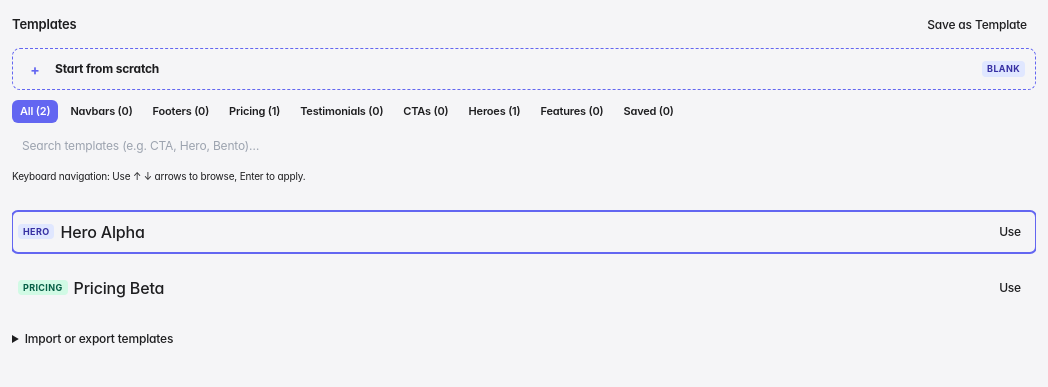
TemplatePanel lazy starter selection › reports a load failure and lets the same control retry successfully
The width and height of the screenshot is (1048, 387).
Click the button named "Use Hero Alpha" at (36, 232), box left=12, top=210, right=1036, bottom=252
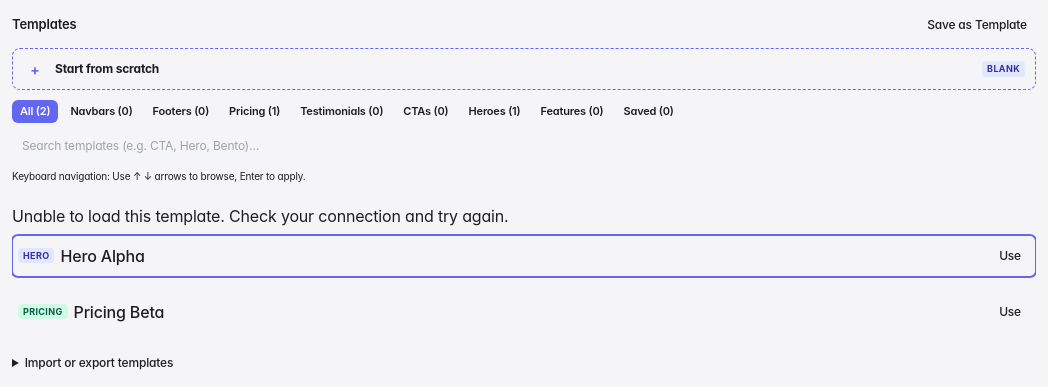
Result: the message shows "Unable to load this template" at left=12, top=206, right=508, bottom=226
Click the button named "Use Hero Alpha" at (36, 256), box left=12, top=234, right=1036, bottom=276
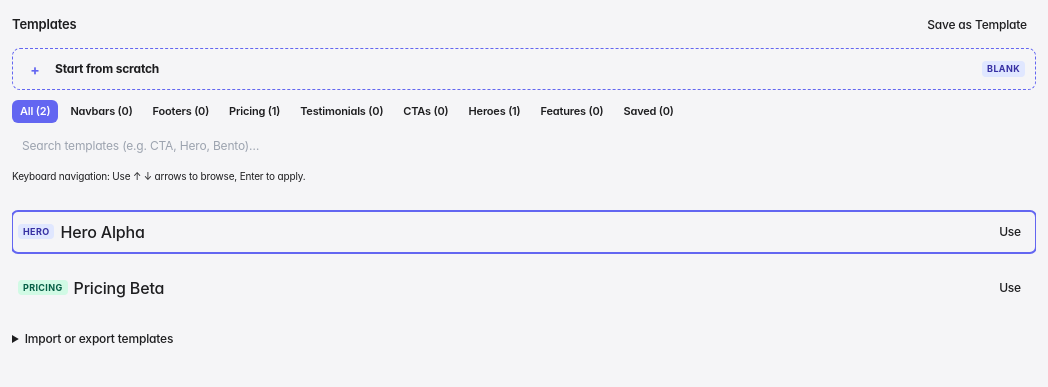
Result: the message "Unable to load this template. Check your connection and try again." is gone
